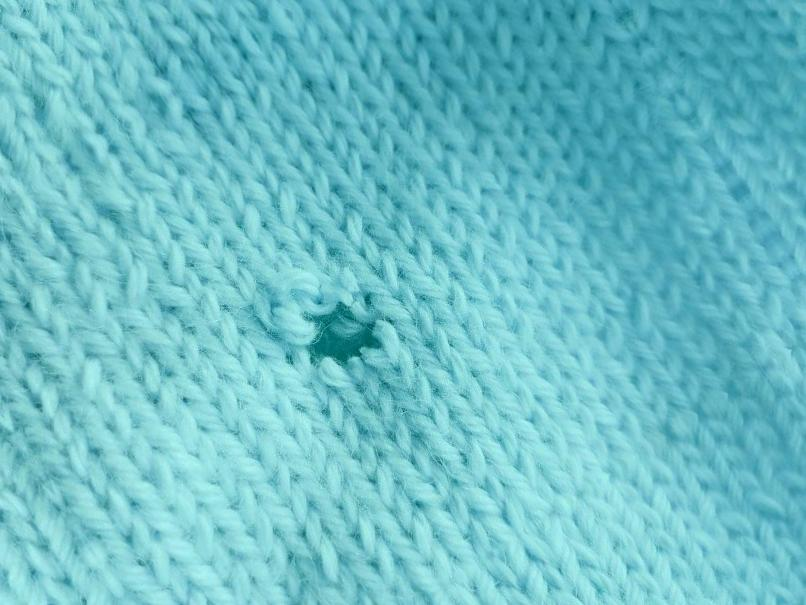hole: (277, 289, 411, 387)
